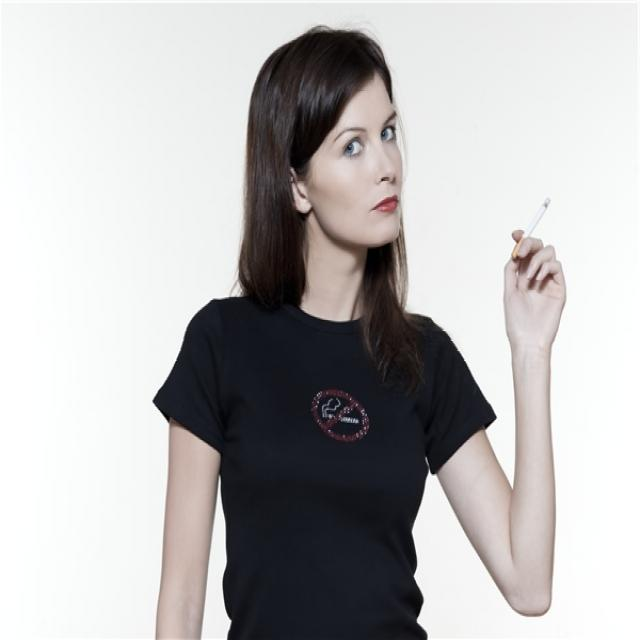smoking: (510, 193, 550, 262)
